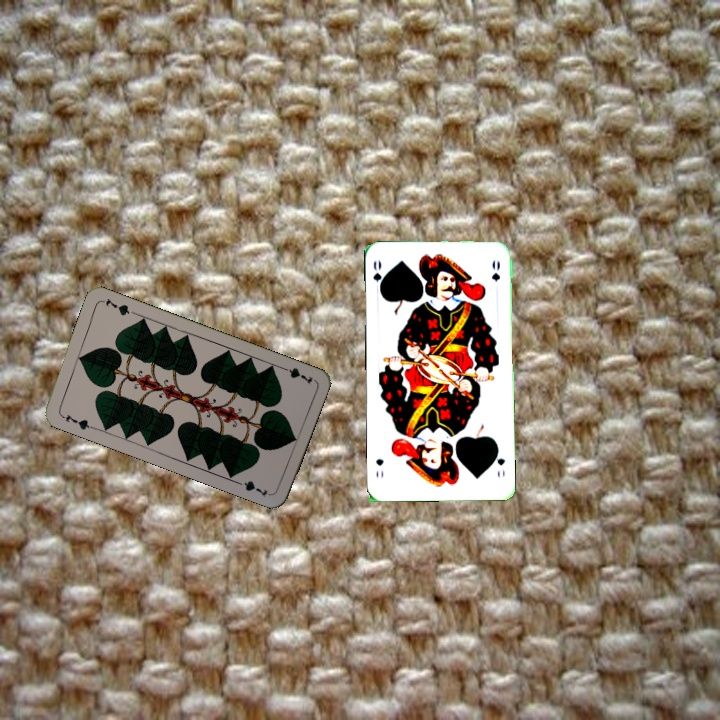G7: (276, 362, 315, 387), (57, 410, 96, 433)
GO: (369, 256, 387, 297), (491, 443, 508, 481)
